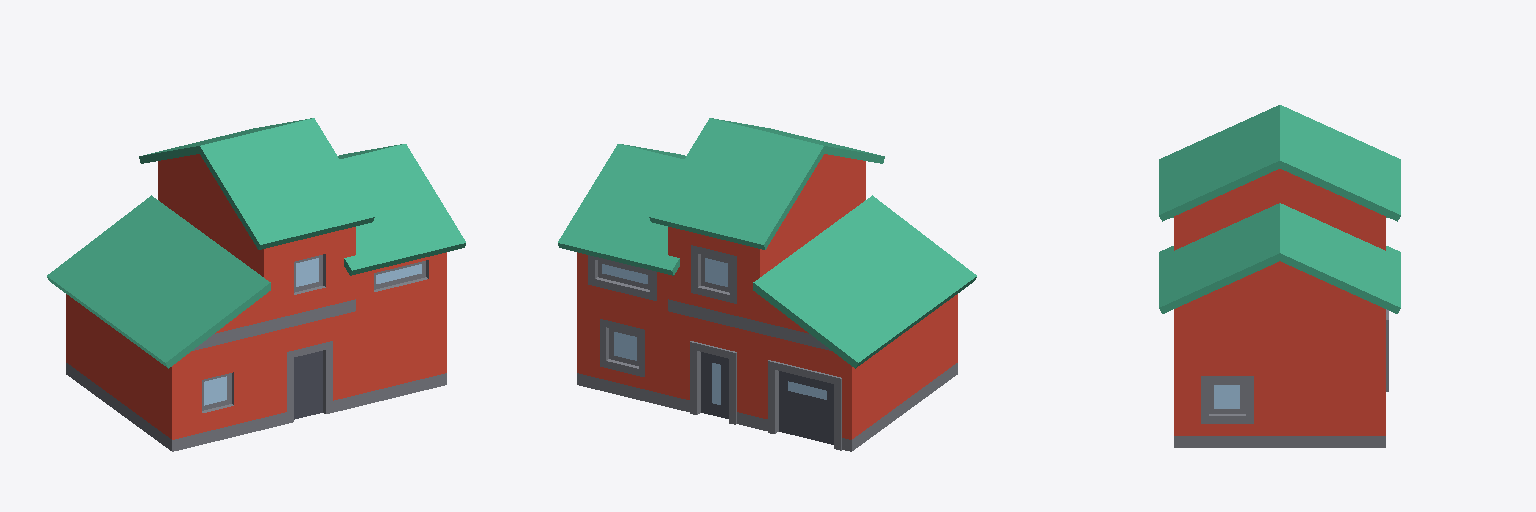
Rendered from house_type14.obj.
3 renders of one model, left to right at view 1: azimuth 30°, elevation 25°; view 2: azimuth 150°, elevation 25°; view 3: azimuth 270°, elevation 25°, orthographic.
Parts seen in each view (by area): view 1: house_type14; view 2: house_type14; view 3: house_type14.
Part boxes in pixels (bbox=[...]): house_type14: bbox=[47, 118, 465, 451]; house_type14: bbox=[558, 118, 976, 451]; house_type14: bbox=[1159, 105, 1400, 447].
Bounding box in the file's own units: 1.31 × 1.03 × 0.9163.